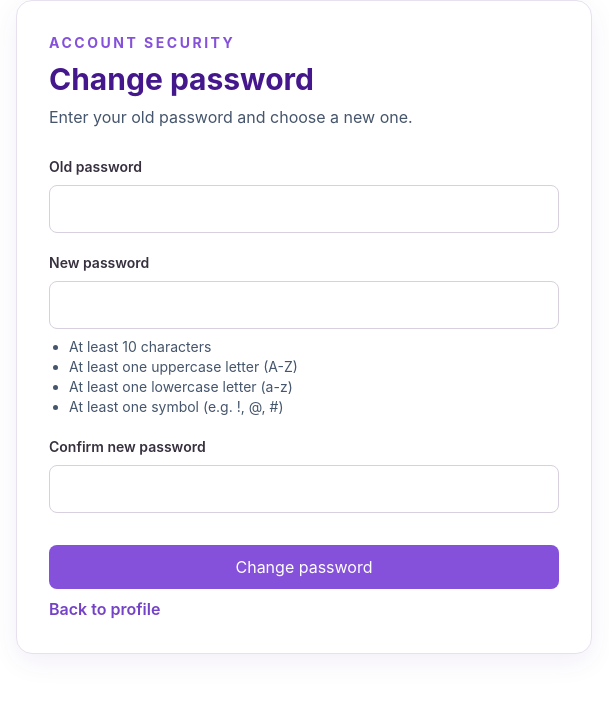
sends authenticated request and clears fields on success
The image size is (609, 717).
Type "old" into the password field labelled "Old password" at (304, 209), box [49, 185, 559, 233]
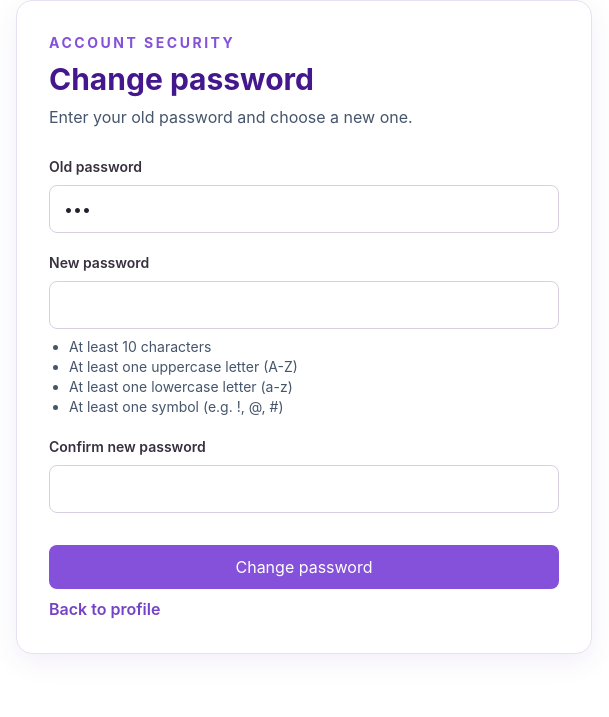
Type "NewPassword!" into the password field labelled "New password" at (304, 305), box [49, 281, 559, 329]
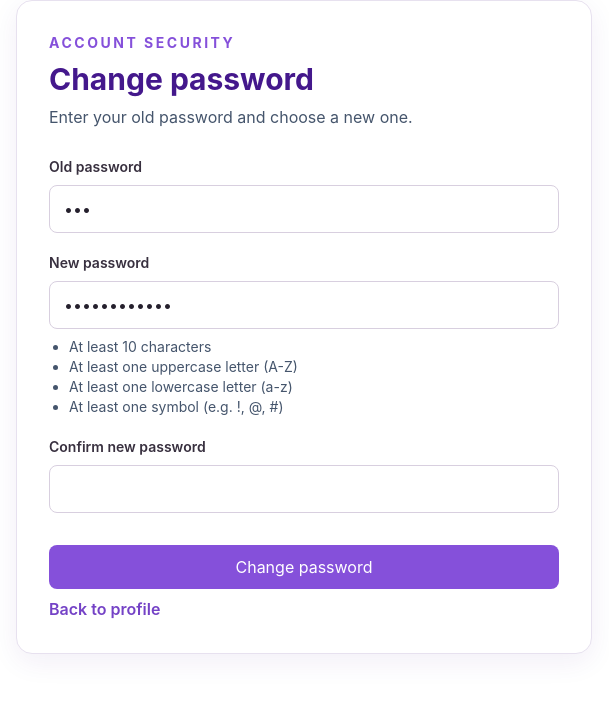
Type "NewPassword!" into the password field labelled "Confirm new password" at (304, 489), box [49, 465, 559, 513]
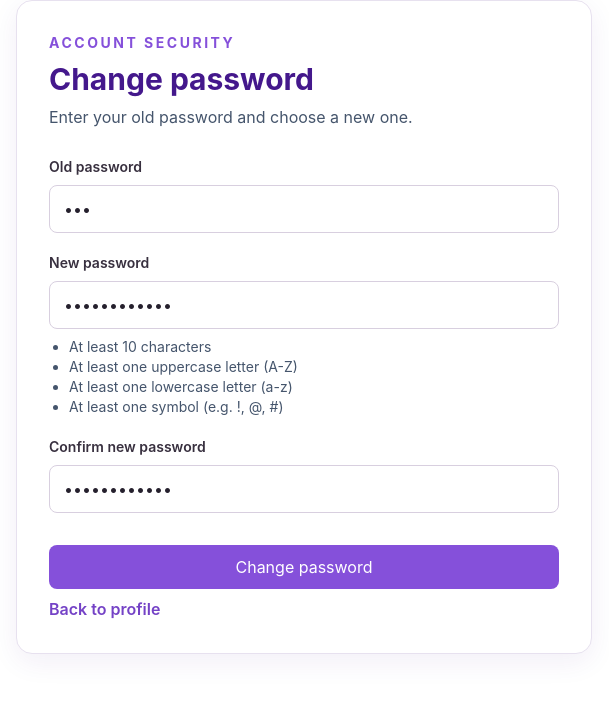
Click the button "Change password" at (304, 567), box [49, 545, 559, 589]
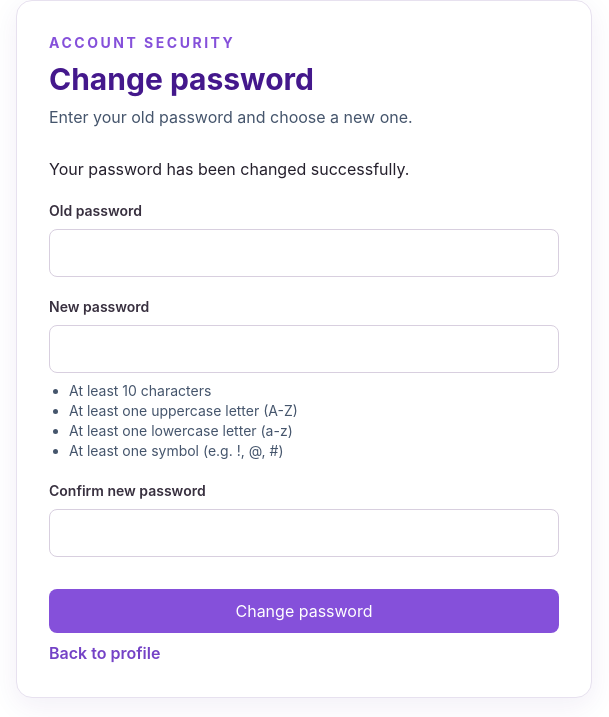
Now the message shows "changed successfully", box [49, 159, 409, 179]
Now the password field labelled "Old password" is empty, box [49, 229, 559, 277]
Now the password field labelled "New password" is empty, box [49, 325, 559, 373]
